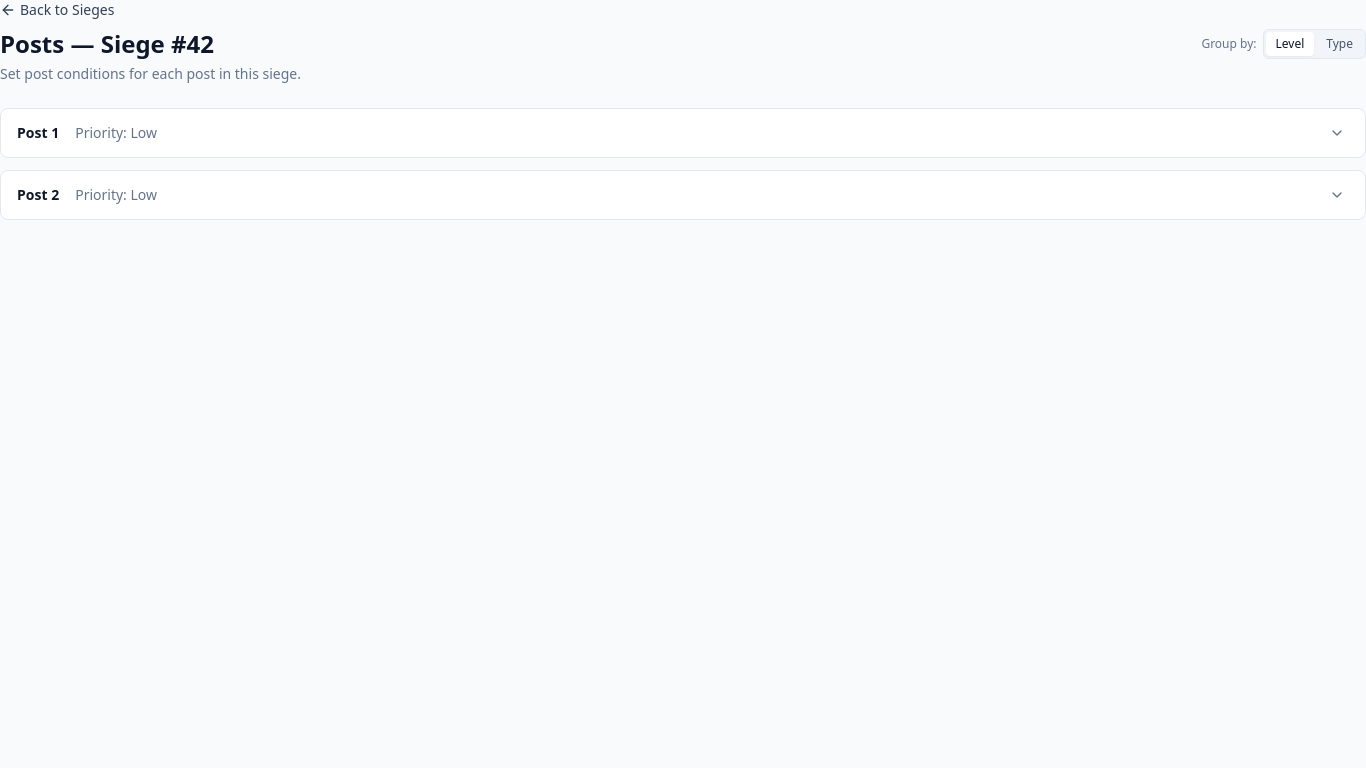
Test: PostsPage — master Toggle All override (issue #377) › per-row flip after master broadcast does not affect master or other rows
Click the 1st button at (1337, 133), box [1325, 121, 1349, 145]
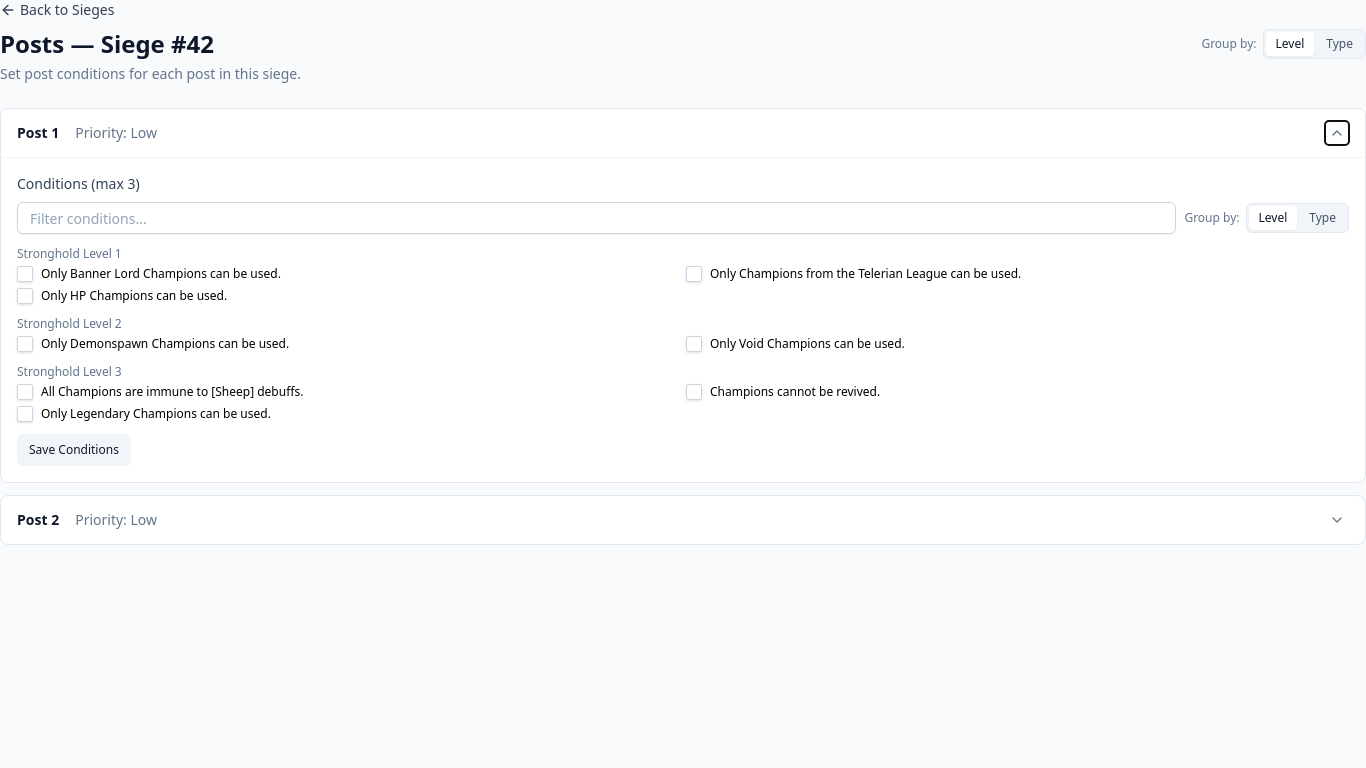
Click the 3rd button at (1337, 520), box [1325, 508, 1349, 532]
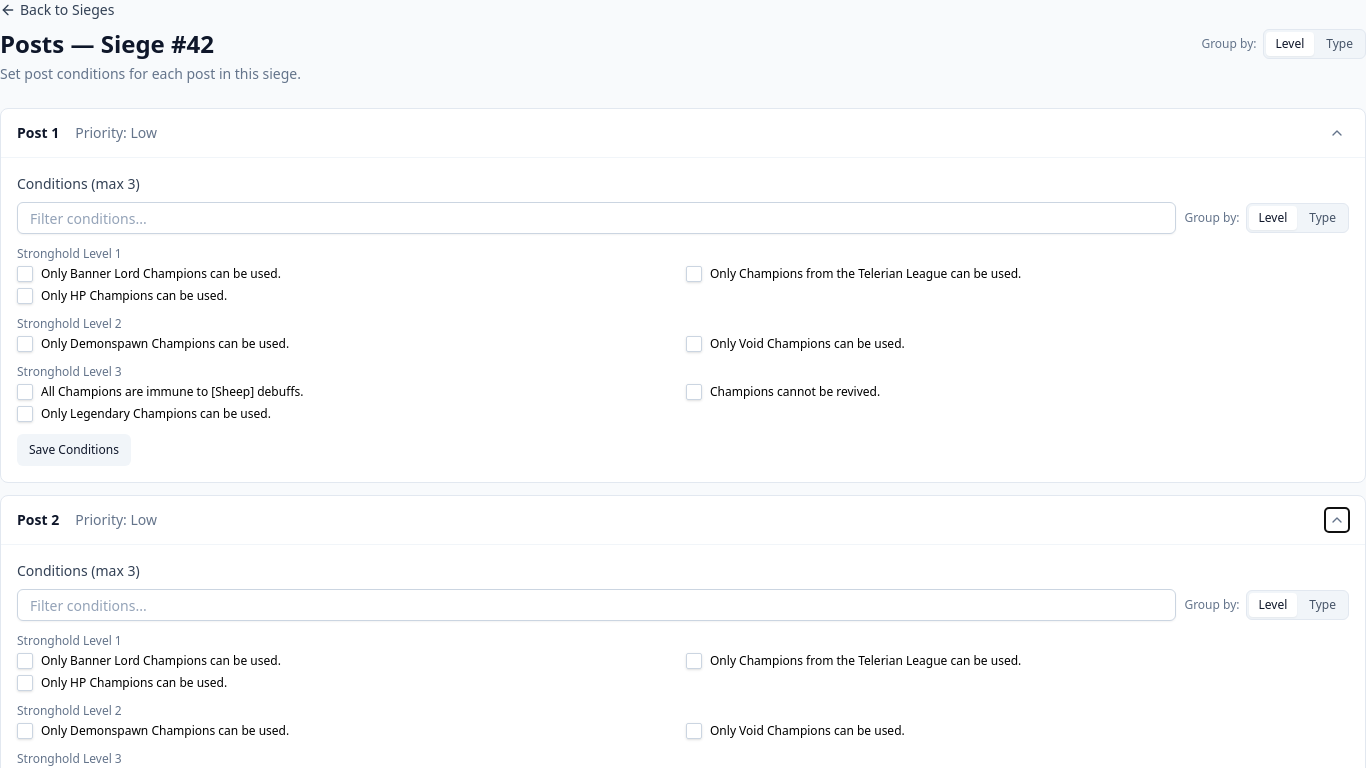
Click the radio button labelled "Type" in the row of "42" at (1340, 44), box [1316, 32, 1363, 56]
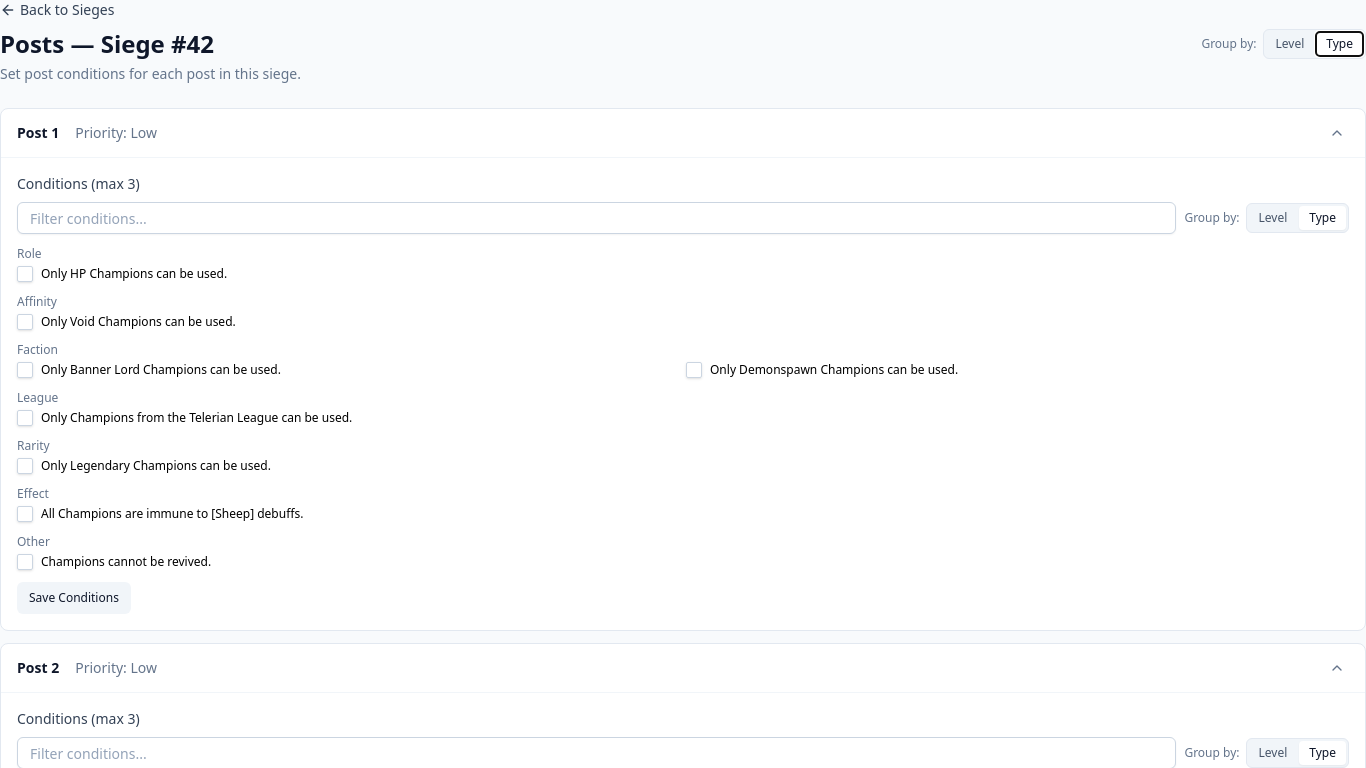
Click the 2nd radio button labelled "Level" at (1273, 218), box [1248, 206, 1297, 230]
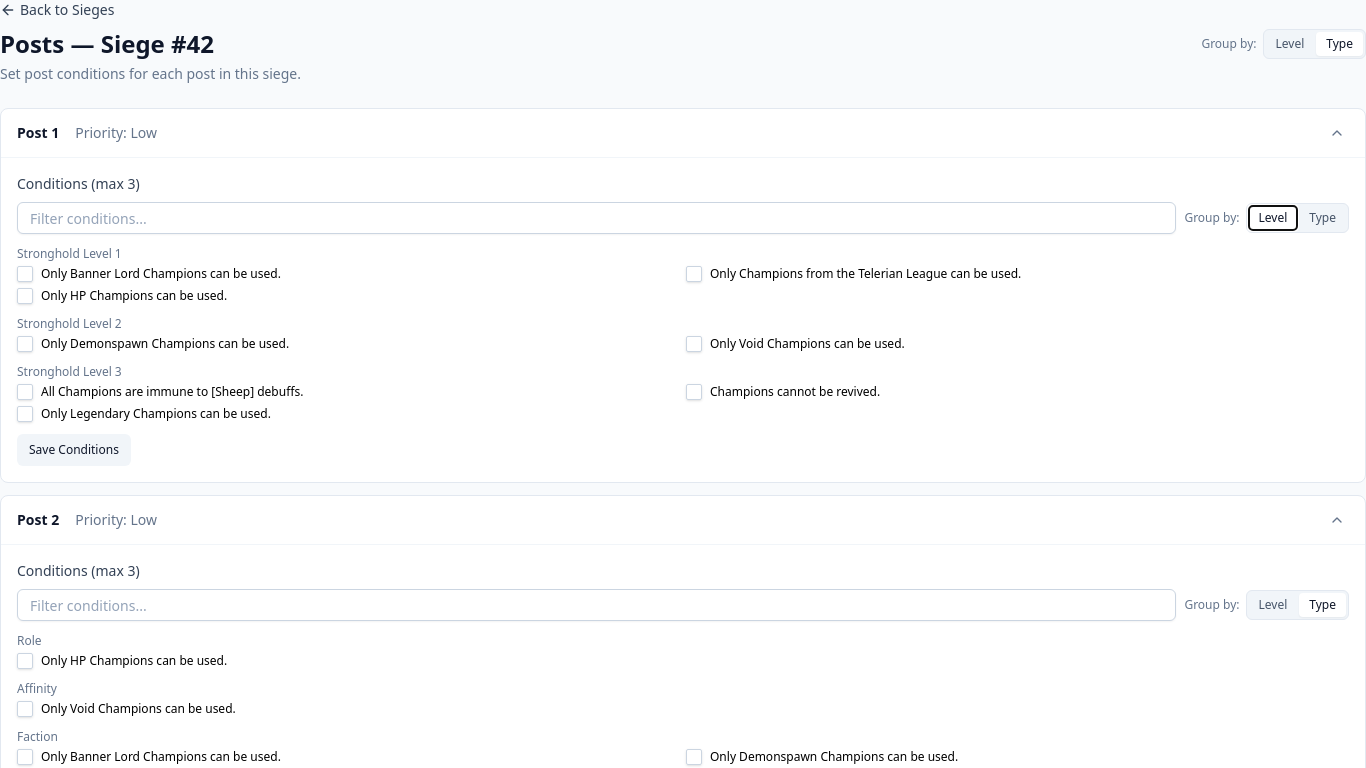
Result: the text "Stronghold Level 1" is shown at [17, 245, 122, 262]
